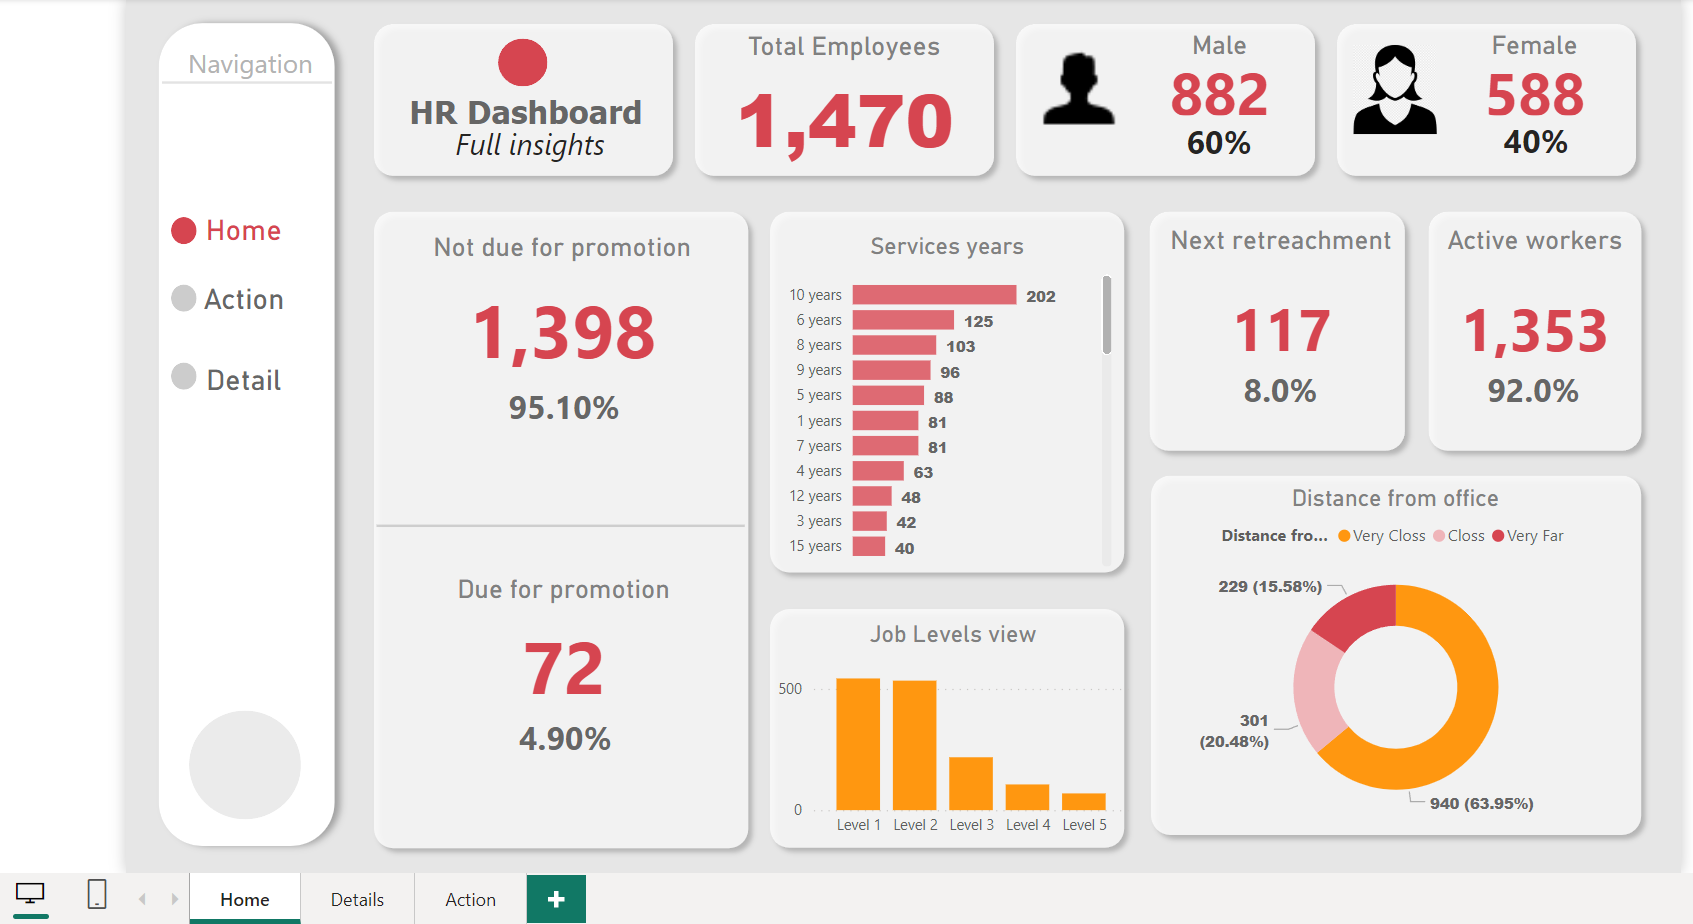

What the dashboard file says about the page in this screenshot:
{"tool":"powerbi","page":{"name":"Home","canvas":[1280,720],"ordinal":0},"visuals":[{"type":"shape","box":[16.5,9.6,166.5,699.2],"z":0},{"type":"shape","box":[195.4,12.4,264.3,143.1],"z":1000},{"type":"shape","box":[459.7,12.4,264.3,143.1],"z":2000},{"type":"shape","box":[724,12.4,264.3,143.1],"z":3000},{"type":"shape","box":[988.2,12.4,264.3,143.1],"z":4000},{"type":"shape","box":[195.4,166.5,326.2,542.3],"z":5000},{"type":"shape","box":[521.6,166.2,309.7,315.2],"z":6000},{"type":"shape","box":[521.6,494.1,309.7,214.7],"z":7000},{"type":"shape","box":[834.8,384.2,421.6,314.1],"z":8000},{"type":"shape","box":[833.6,166.7,228.3,215],"z":9000},{"type":"shape","box":[1063.1,166.7,193.3,215],"z":10000},{"type":"textbox","box":[209.7,71.2,238.7,51.4],"z":11000},{"type":"textbox","box":[36.9,33,130.5,51.4],"z":12000},{"type":"textbox","box":[209.7,97.6,251.9,55.4],"z":13000},{"type":"shape","box":[305.9,33,40.9,39.6],"z":14000},{"type":"card","title":"Total Employees","fields":{"Values":["All Measures.Total Emp"]},"box":[468,27.5,246.4,112.9],"z":15000},{"type":"card","title":"Male","fields":{"Values":["All Measures.Male"]},"box":[814.8,26.2,170.7,75.7],"z":16000},{"type":"card","fields":{"Values":["All Measures.Male %"]},"box":[834.1,90.8,132.1,55.1],"z":17000},{"type":"card","title":"Female","fields":{"Values":["All Measures.Female"]},"box":[1068.7,26.2,183.1,75.7],"z":18000},{"type":"card","fields":{"Values":["All Measures.Female %"]},"box":[1083.9,90.8,152.8,53.7],"z":19000},{"type":"image","box":[736.3,26.2,95,90.8],"z":20000},{"type":"actionButton","title":"Home","box":[27.8,176.4,140.1,30.2],"z":21000},{"type":"image","box":[1004.7,33,79.8,84],"z":22000},{"type":"actionButton","title":"Action","box":[27.7,233.4,139.8,56.7],"z":23000},{"type":"card","title":"Active workers","fields":{"Values":["All Measures.On service"]},"box":[1058.3,186,203,142.6],"z":24000},{"type":"actionButton","title":"Detail","box":[27.7,300.7,139.8,58],"z":25000},{"type":"card","fields":{"Values":["All Measures.% Active workers"]},"box":[1082.4,296,153.4,53.2],"z":26000},{"type":"card","title":"Next retreachment","fields":{"Values":["All Measures.Due for retirment"]},"box":[843.2,186,215,142.6],"z":27000},{"type":"card","fields":{"Values":["All Measures.%Due for retirment"]},"box":[865,296,171.5,53.2],"z":28000},{"type":"columnChart","title":"Job Levels view","fields":{"Category":["HR Analytics Data.Job Level"],"Y":["All Measures.Total Emp"]},"box":[531.3,512,300,185.8],"z":29000},{"type":"barChart","title":"Services years","fields":{"Category":["HR Analytics Data.Total working Years"],"Y":["All Measures.Total Emp"]},"box":[536.4,192.1,280.3,280.3],"z":30000},{"type":"donutChart","title":"Distance from office","fields":{"Category":["HR Analytics Data.Distance from office"],"Y":["All Measures.Total Emp"]},"box":[840.8,399.9,408.3,282.7],"z":31000},{"type":"card","title":"Not due for promotion","fields":{"Values":["All Measures.Not Due"]},"box":[207.8,192.1,303.2,130.5],"z":32000},{"type":"card","title":"Due for promotion","fields":{"Values":["All Measures.Due for promotion"]},"box":[209,473.8,303.2,119.6],"z":33000},{"type":"shape","box":[206.6,427.7,303.2,14.5],"z":34000},{"type":"card","fields":{"Values":["All Measures.% Not due for promotion"]},"box":[283.5,309.7,152.8,53.7],"z":35000},{"type":"card","fields":{"Values":["All Measures.% Due for promotion"]},"box":[285.1,582.5,152.2,53.2],"z":36000},{"type":"shape","box":[36.9,180.7,21.1,22.4],"z":37000},{"type":"shape","box":[36.9,236,21.1,22.4],"z":38000},{"type":"shape","box":[36.9,300.7,21.1,22.4],"z":39000},{"type":"shape","box":[51.4,586.8,92.3,89.7],"z":40000},{"type":"shape","box":[30.2,61.6,140.1,15.7],"z":41000}]}

Visuals, with their boxes on the page's 1280x720 design canvas (x1, y1, x2, y2). These are canvas units, not pixel positions in the 1693x924 screenshot, which may show the page scaled, cropped or inside an application window:
shape: (left=16, top=10, right=183, bottom=709)
shape: (left=195, top=12, right=460, bottom=156)
shape: (left=460, top=12, right=724, bottom=156)
shape: (left=724, top=12, right=988, bottom=156)
shape: (left=988, top=12, right=1252, bottom=156)
shape: (left=195, top=166, right=522, bottom=709)
shape: (left=522, top=166, right=831, bottom=481)
shape: (left=522, top=494, right=831, bottom=709)
shape: (left=835, top=384, right=1256, bottom=698)
shape: (left=834, top=167, right=1062, bottom=382)
shape: (left=1063, top=167, right=1256, bottom=382)
textbox: (left=210, top=71, right=448, bottom=123)
textbox: (left=37, top=33, right=167, bottom=84)
textbox: (left=210, top=98, right=462, bottom=153)
shape: (left=306, top=33, right=347, bottom=73)
"Total Employees" card: (left=468, top=28, right=714, bottom=140)
"Male" card: (left=815, top=26, right=986, bottom=102)
card - All Measures.Male %: (left=834, top=91, right=966, bottom=146)
"Female" card: (left=1069, top=26, right=1252, bottom=102)
card - All Measures.Female %: (left=1084, top=91, right=1237, bottom=144)
image: (left=736, top=26, right=831, bottom=117)
"Home" actionButton: (left=28, top=176, right=168, bottom=207)
image: (left=1005, top=33, right=1084, bottom=117)
"Action" actionButton: (left=28, top=233, right=168, bottom=290)
"Active workers" card: (left=1058, top=186, right=1261, bottom=329)
"Detail" actionButton: (left=28, top=301, right=168, bottom=359)
card - All Measures.% Active workers: (left=1082, top=296, right=1236, bottom=349)
"Next retreachment" card: (left=843, top=186, right=1058, bottom=329)
card - All Measures.%Due for retirment: (left=865, top=296, right=1036, bottom=349)
"Job Levels view" columnChart: (left=531, top=512, right=831, bottom=698)
"Services years" barChart: (left=536, top=192, right=817, bottom=472)
"Distance from office" donutChart: (left=841, top=400, right=1249, bottom=683)
"Not due for promotion" card: (left=208, top=192, right=511, bottom=323)
"Due for promotion" card: (left=209, top=474, right=512, bottom=593)
shape: (left=207, top=428, right=510, bottom=442)
card - All Measures.% Not due for promotion: (left=284, top=310, right=436, bottom=363)
card - All Measures.% Due for promotion: (left=285, top=582, right=437, bottom=636)
shape: (left=37, top=181, right=58, bottom=203)
shape: (left=37, top=236, right=58, bottom=258)
shape: (left=37, top=301, right=58, bottom=323)
shape: (left=51, top=587, right=144, bottom=676)
shape: (left=30, top=62, right=170, bottom=77)
